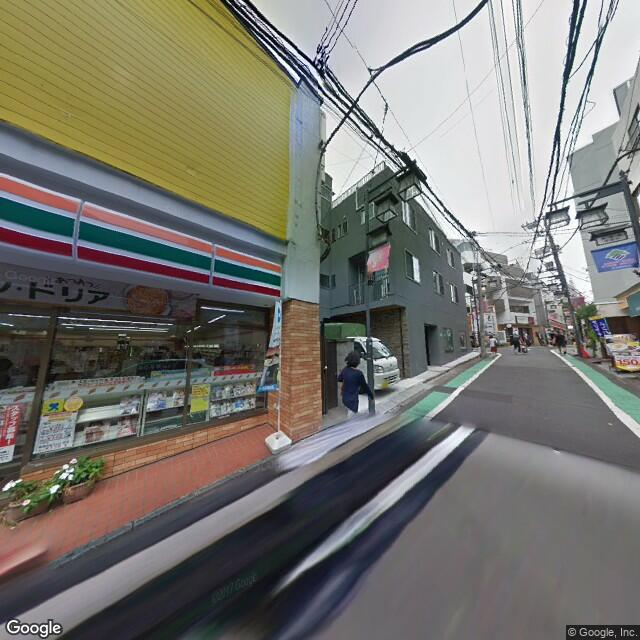7-eleven: (2, 172, 282, 304)
